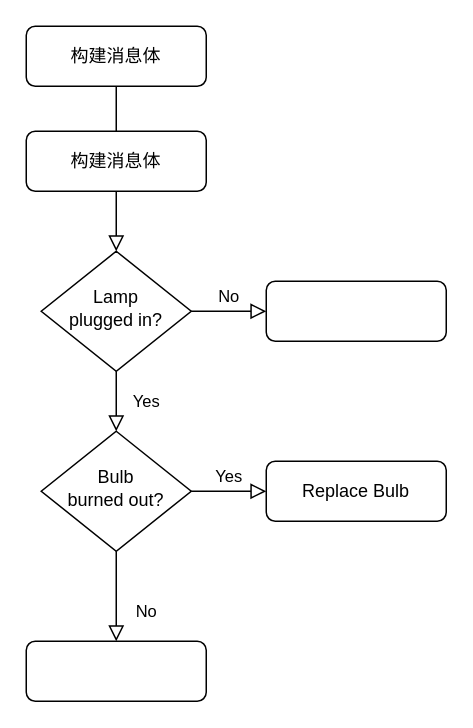
Image size: 473x728. Some labels were removed from this diagram. Here are the shapes that lost their labels. From the top down, the centre of each, then its label:
[355,310]: Plug in lamp
[115,670]: Repair Lamp
